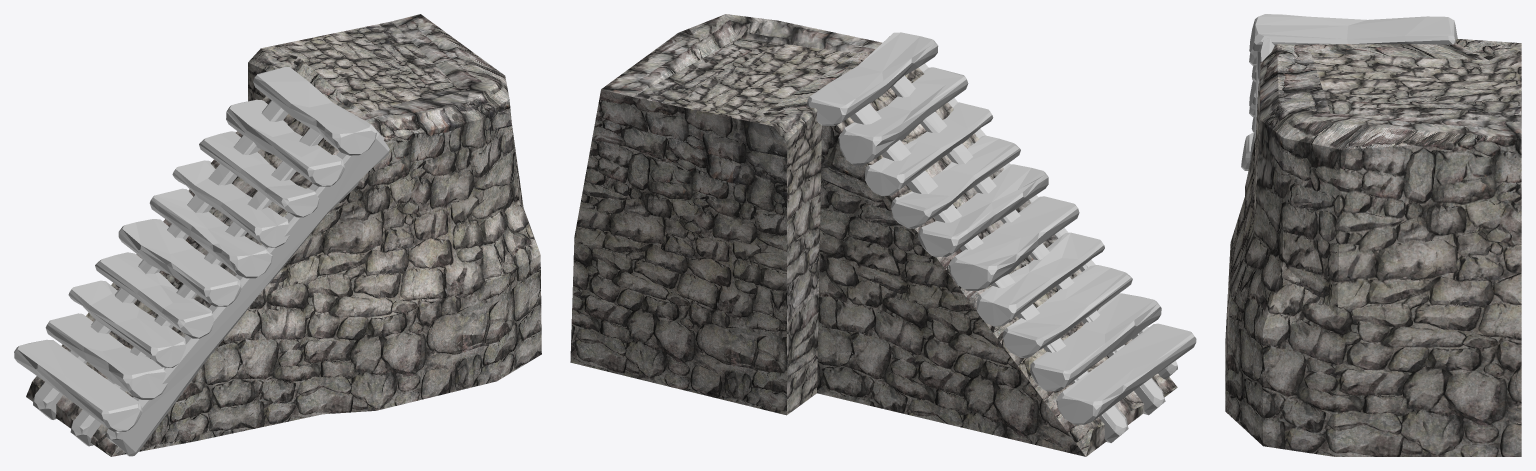
The model's file is StoneRamp_1_LOD1.fbx.
3 views of the same model, side by side, from view 1: azimuth 30°, elevation 25°; view 2: azimuth 150°, elevation 25°; view 3: azimuth 270°, elevation 25° (orthographic). The views are drawn at different scales.
Parts seen in each view (by area): view 1: Stone, Wood; view 2: Stone, Wood; view 3: Stone, Wood.
Boxes of the visible parts, box(x1,y1,x2,y2) form: Stone: box(26, 14, 541, 456); Wood: box(14, 66, 389, 456); Stone: box(570, 14, 1177, 456); Wood: box(807, 32, 1196, 442); Stone: box(1225, 38, 1521, 456); Wood: box(1241, 14, 1457, 170).
Size of the model in its own units: 1015 by 484 by 573.
